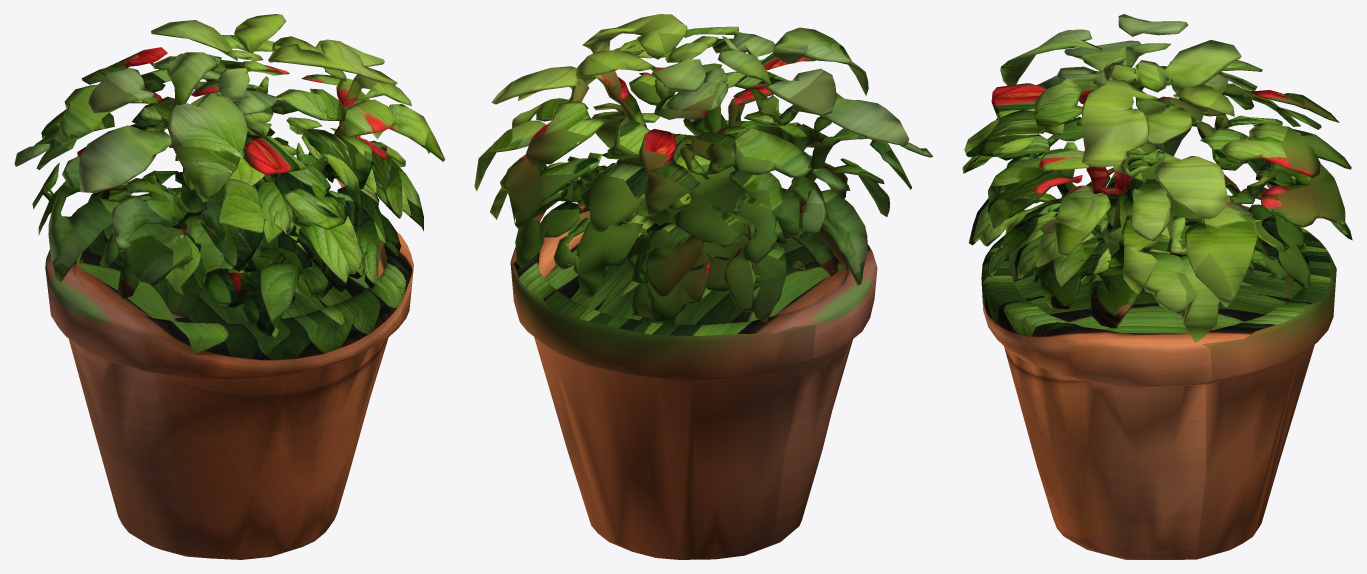
File: flowerpot.glb
3 views of the same model, side by side, from view 1: azimuth 30°, elevation 25°; view 2: azimuth 150°, elevation 25°; view 3: azimuth 270°, elevation 25° (orthographic). The views are drawn at different scales.
Parts seen in each view (by area): view 1: flowerpot; view 2: flowerpot; view 3: flowerpot.
Part boxes in pixels (bbox=[...]): flowerpot: bbox=[14, 14, 445, 559]; flowerpot: bbox=[474, 14, 933, 559]; flowerpot: bbox=[962, 14, 1352, 559].
Bounding box in the file's own units: 4.2 × 5.12 × 3.93.
Materials: 1 (1 with a texture image).
